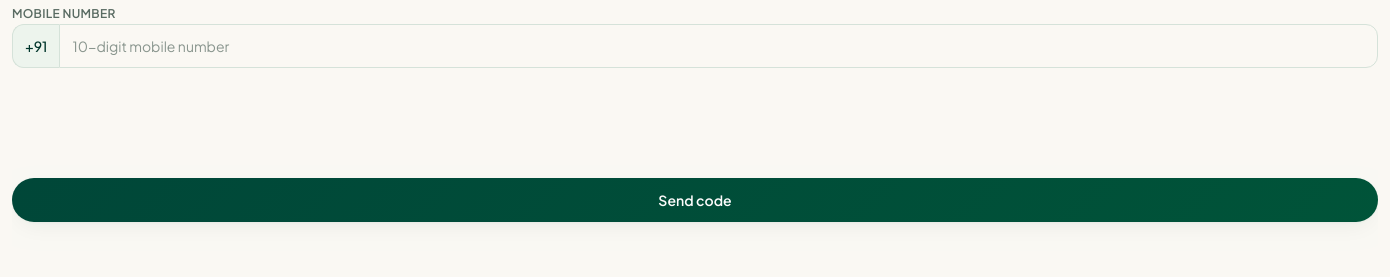
Test: MobileOtpForm › number step › rejects 12345 without calling the widget
Expected: the button "Send code" is enabled, [12,178,1378,222]
Type "12345" into the field labelled "Mobile number" at (719, 46), box [60,24,1378,68]
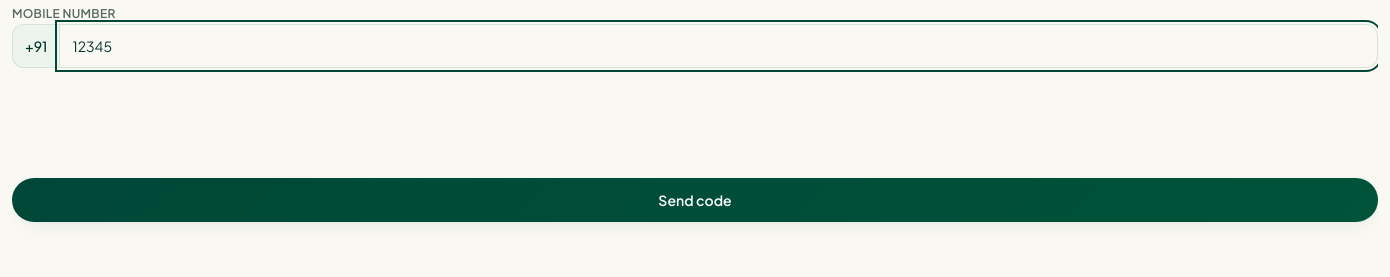
Click the button "Send code" at (695, 200), box [12,178,1378,222]
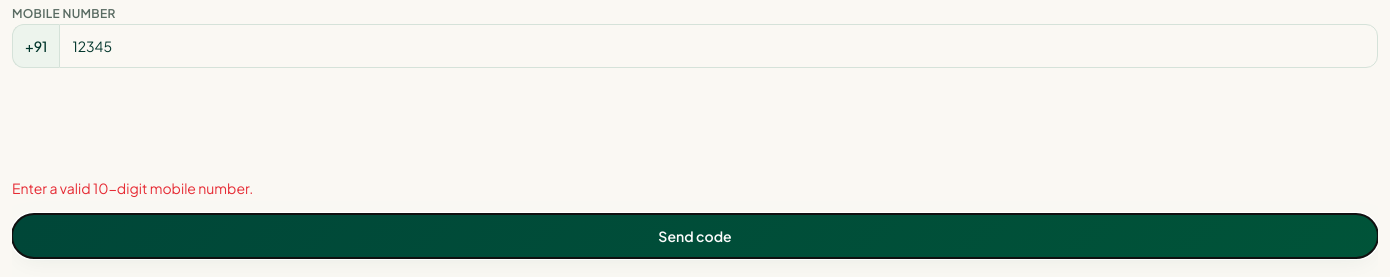
Result: the message shows "valid 10-digit mobile number" at [12,179,253,197]
